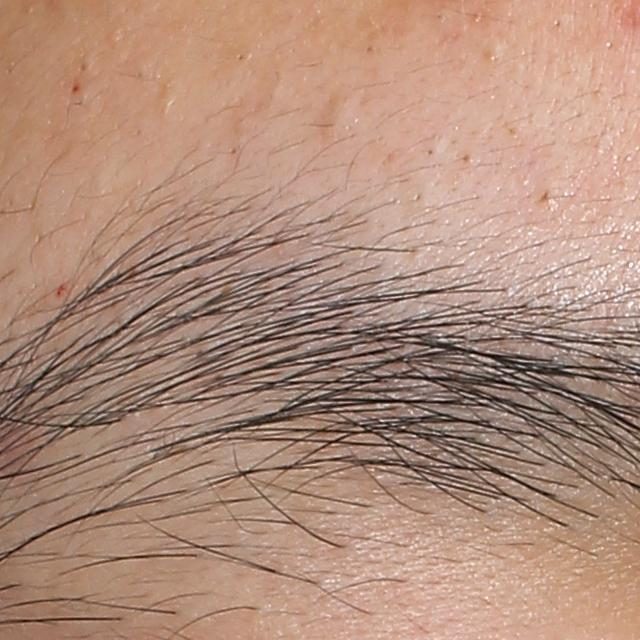comedo: (317, 91, 360, 139), (486, 48, 502, 63), (551, 16, 564, 28)
